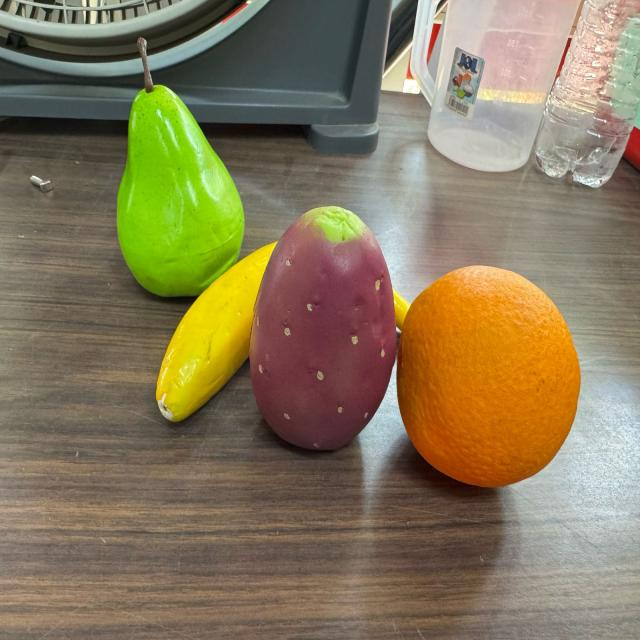banana: (155, 241, 418, 422)
orange: (399, 265, 583, 488)
pear: (116, 39, 243, 298)
tuna: (250, 207, 398, 451)
